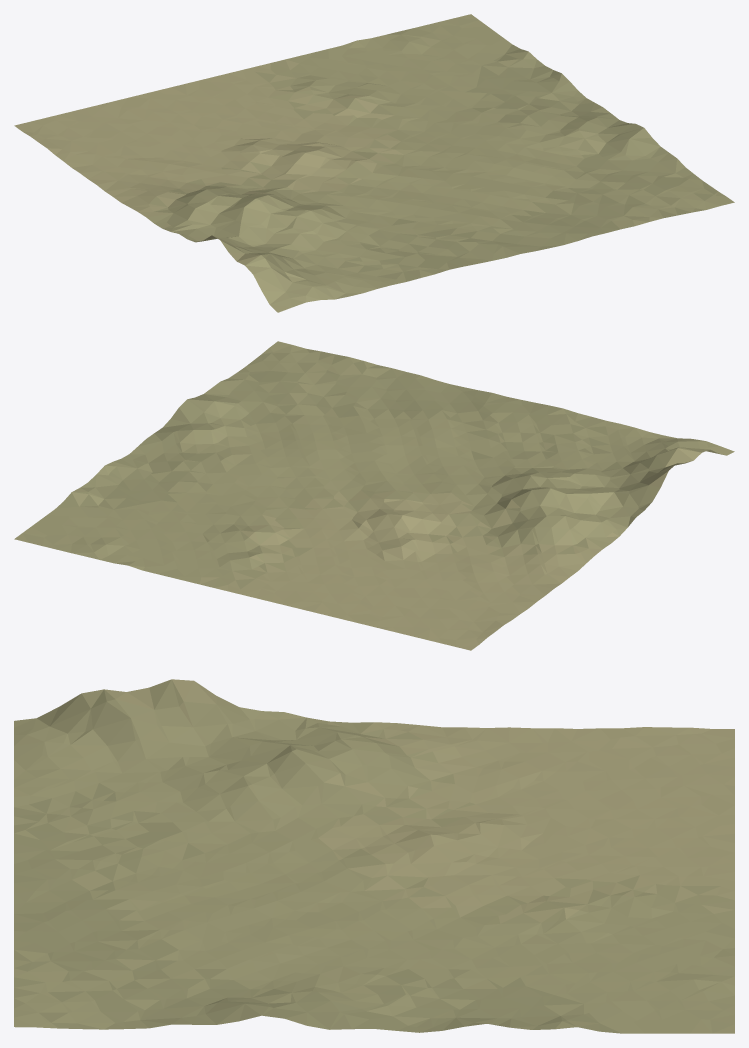
Rendered from Ground_5_-9.glb.
3 views of the same model, one above another, from view 1: azimuth 30°, elevation 25°; view 2: azimuth 150°, elevation 25°; view 3: azimuth 270°, elevation 25° (orthographic). The views are drawn at different scales.
Parts seen in each view (by area): view 1: Ground_5_-9; view 2: Ground_5_-9; view 3: Ground_5_-9.
Part boxes in pixels (left/top/right/bottom): Ground_5_-9: left=14, top=14, right=734, bottom=312; Ground_5_-9: left=14, top=341, right=734, bottom=650; Ground_5_-9: left=14, top=679, right=734, bottom=1033.
Bounding box in the file's own units: 768 × 58.41 × 768.
